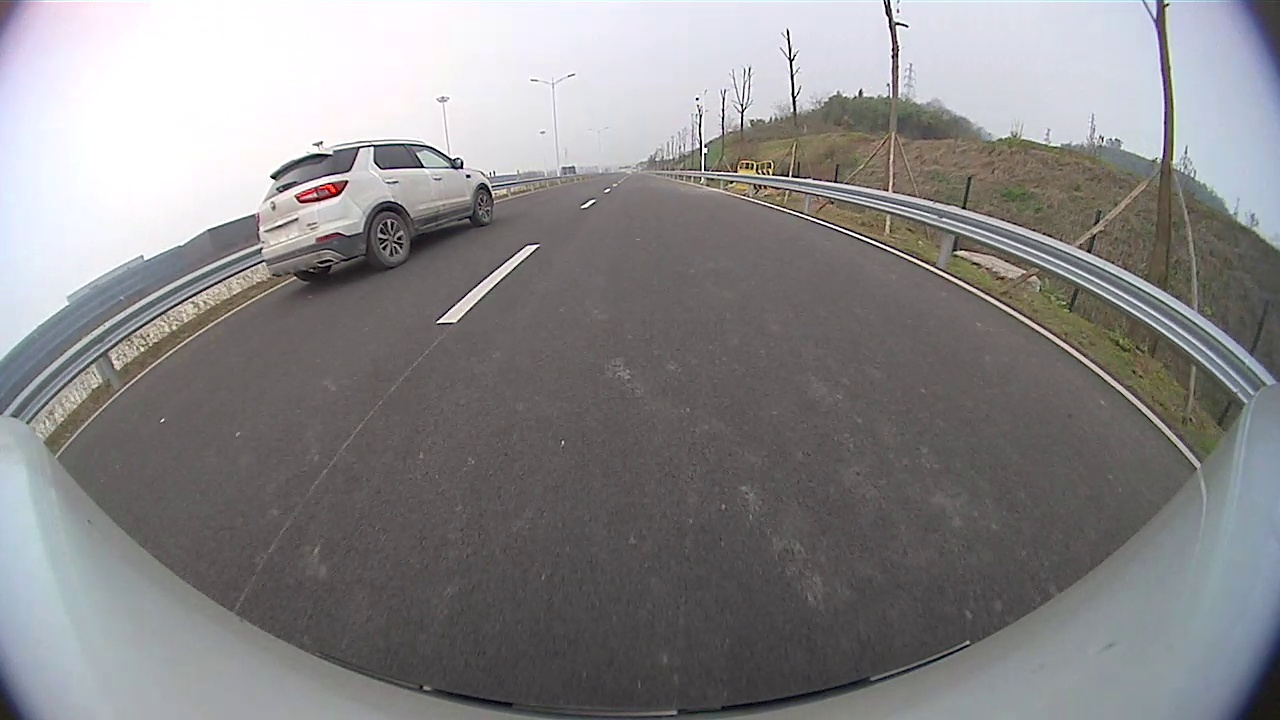car: (256, 136, 496, 287)
front: (473, 190, 495, 227)
rear: (369, 212, 412, 268)
